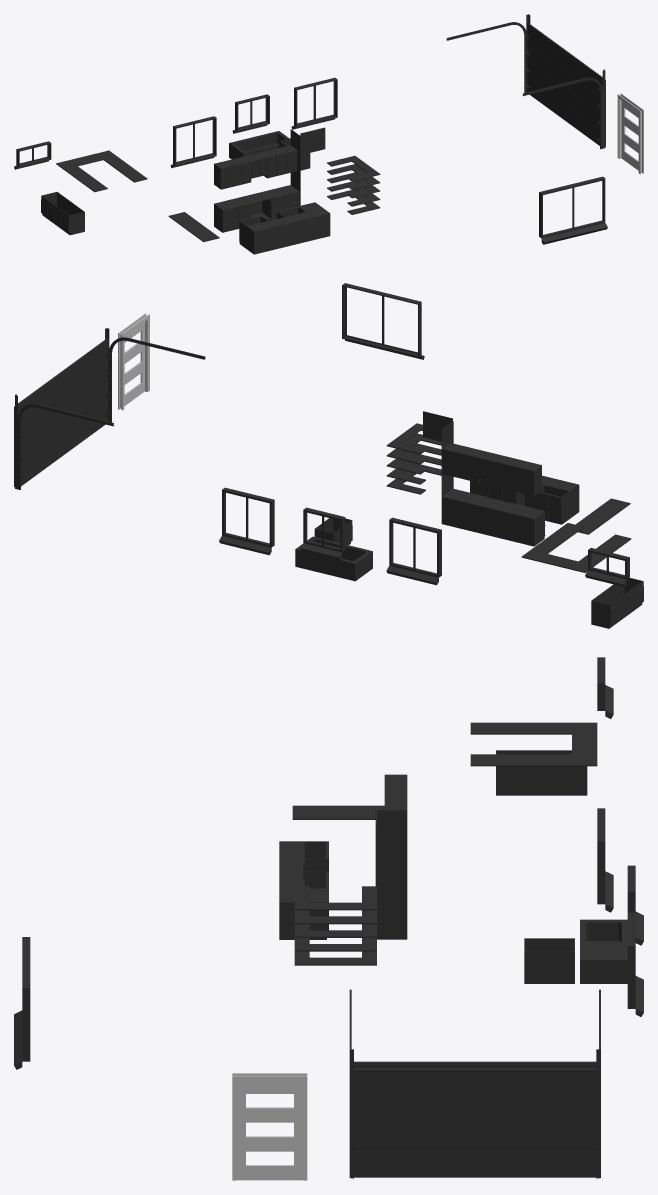
File: cabinetry.obj
3 views of the same model, one above another, from view 1: azimuth 30°, elevation 25°; view 2: azimuth 150°, elevation 25°; view 3: azimuth 270°, elevation 25° (orthographic). The views are drawn at different scales.
Visible parts, largest first — view 1: Overhead_Service_Bay_Door_3941_10__Wide__318048_, Kitchen_Benchtop_wrapped_both_ends_2623_1200mm_Depth__758707_, Front_door_mark_Front_door_mark__408764_, Aluminium_Awning_Window_16425_AAF1012__461253_, WALK_IN_SHELF_WALK_IN_SHELF__596361_, M_Vanity_Cabinet_Double_Door___4_Drawer_1200mm__594827_, bath_hob_bath_hob__517773_, Aluminium_Awning_Window_16425_AAF1412_3__477090_, Aluminium_Awning_Window_16425_AAF1412_3__477175_001, Miele_UpperCabinet_2Doors_h_75cm_80__772041_, Miele_LowerCabinet_1Drawer_2BigDrawer_60__759260_, WALK_IN_SHELF6_WALK_IN_SHELF__834604_ (+14 smaller); view 2: Overhead_Service_Bay_Door_3941_10__Wide__318048_, Front_door_mark_Front_door_mark__408764_, bath_hob_bath_hob__517773_, WALK_IN_SHELF_WALK_IN_SHELF__596361_, M_Vanity_Cabinet_Double_Door___4_Drawer_1200mm__594827_, Aluminium_Awning_Window_16425_AAF1012__461253_, Aluminium_Awning_Window_16425_AAF1412_3__477090_, Aluminium_Awning_Window_16425_AAF1412_3__477175_001, Aluminium_Awning_Window_16425_AAF1412__422796_, Miele_LowerCabinet_1Drawer_2BigDrawer_60__759260_, Miele_UpperCabinet_2Doors_h_75cm_80__772041_, Miele_LowerCabinet_2DoorsSink1_80__761809_ (+18 smaller); view 3: Overhead_Service_Bay_Door_3941_10__Wide__318048_, Front_door_mark_Front_door_mark__408764_, fridge_partition_fridge_partition__768921_, WALK_IN_SHELF_WALK_IN_SHELF__596361_, M_Vanity_Cabinet_Double_Door___4_Drawer_1200mm__594827_, bath_hob_bath_hob__517773_, M_Vanity_Cabinet_Single_Door_Double_Drawer_1000mm__558773_, Kitchen_Benchtop_wrapped_both_ends_2623_1200mm_Depth__758707_, Aluminium_Awning_Window_16425_AAF1012__461253_, WALK_IN_SHELF6_WALK_IN_SHELF__834604_, WALK_IN_SHELF1_WALK_IN_SHELF__664792_, Aluminium_Awning_Window_16425_AAF1412_3__477090_ (+7 smaller).
Part boxes in pixels (left/top/right/bottom): Overhead_Service_Bay_Door_3941_10__Wide__318048_: left=446, top=14, right=605, bottom=149; Kitchen_Benchtop_wrapped_both_ends_2623_1200mm_Depth__758707_: left=246, top=209, right=330, bottom=254; Front_door_mark_Front_door_mark__408764_: left=617, top=93, right=643, bottom=174; Aluminium_Awning_Window_16425_AAF1012__461253_: left=539, top=176, right=607, bottom=244; WALK_IN_SHELF_WALK_IN_SHELF__596361_: left=56, top=150, right=147, bottom=192; M_Vanity_Cabinet_Double_Door___4_Drawer_1200mm__594827_: left=41, top=192, right=84, bottom=235; bath_hob_bath_hob__517773_: left=229, top=131, right=289, bottom=159; Aluminium_Awning_Window_16425_AAF1412_3__477090_: left=291, top=77, right=337, bottom=129; Aluminium_Awning_Window_16425_AAF1412_3__477175_001: left=170, top=116, right=216, bottom=168; Miele_UpperCabinet_2Doors_h_75cm_80__772041_: left=214, top=158, right=242, bottom=189; Miele_LowerCabinet_1Drawer_2BigDrawer_60__759260_: left=214, top=199, right=239, bottom=232; WALK_IN_SHELF6_WALK_IN_SHELF__834604_: left=168, top=212, right=219, bottom=242; Overhead_Service_Bay_Door_3941_10__Wide__318048_: left=14, top=328, right=205, bottom=489; Front_door_mark_Front_door_mark__408764_: left=118, top=313, right=149, bottom=410; bath_hob_bath_hob__517773_: left=295, top=536, right=372, bottom=581; WALK_IN_SHELF_WALK_IN_SHELF__596361_: left=521, top=523, right=631, bottom=572; M_Vanity_Cabinet_Double_Door___4_Drawer_1200mm__594827_: left=591, top=577, right=643, bottom=628; Aluminium_Awning_Window_16425_AAF1012__461253_: left=342, top=283, right=424, bottom=359; Aluminium_Awning_Window_16425_AAF1412_3__477090_: left=219, top=487, right=274, bottom=555; Aluminium_Awning_Window_16425_AAF1412_3__477175_001: left=386, top=517, right=441, bottom=585; Aluminium_Awning_Window_16425_AAF1412__422796_: left=300, top=507, right=345, bottom=559; Miele_LowerCabinet_1Drawer_2BigDrawer_60__759260_: left=514, top=506, right=545, bottom=546; Miele_UpperCabinet_2Doors_h_75cm_80__772041_: left=508, top=459, right=541, bottom=496; Miele_LowerCabinet_2DoorsSink1_80__761809_: left=535, top=484, right=572, bottom=524; Overhead_Service_Bay_Door_3941_10__Wide__318048_: left=349, top=989, right=600, bottom=1179; Front_door_mark_Front_door_mark__408764_: left=232, top=1073, right=307, bottom=1180; fridge_partition_fridge_partition__768921_: left=375, top=810, right=407, bottom=939; WALK_IN_SHELF_WALK_IN_SHELF__596361_: left=470, top=722, right=597, bottom=766; M_Vanity_Cabinet_Double_Door___4_Drawer_1200mm__594827_: left=496, top=750, right=587, bottom=795; bath_hob_bath_hob__517773_: left=580, top=919, right=627, bottom=983; M_Vanity_Cabinet_Single_Door_Double_Drawer_1000mm__558773_: left=524, top=938, right=574, bottom=983; Kitchen_Benchtop_wrapped_both_ends_2623_1200mm_Depth__758707_: left=279, top=841, right=304, bottom=939; Aluminium_Awning_Window_16425_AAF1012__461253_: left=14, top=937, right=30, bottom=1069; WALK_IN_SHELF6_WALK_IN_SHELF__834604_: left=292, top=805, right=384, bottom=819; WALK_IN_SHELF1_WALK_IN_SHELF__664792_: left=294, top=886, right=376, bottom=910; Aluminium_Awning_Window_16425_AAF1412_3__477090_: left=627, top=912, right=643, bottom=1016.
Bounding box in the file's own units: 19.31 × 2.91 × 12.44.
